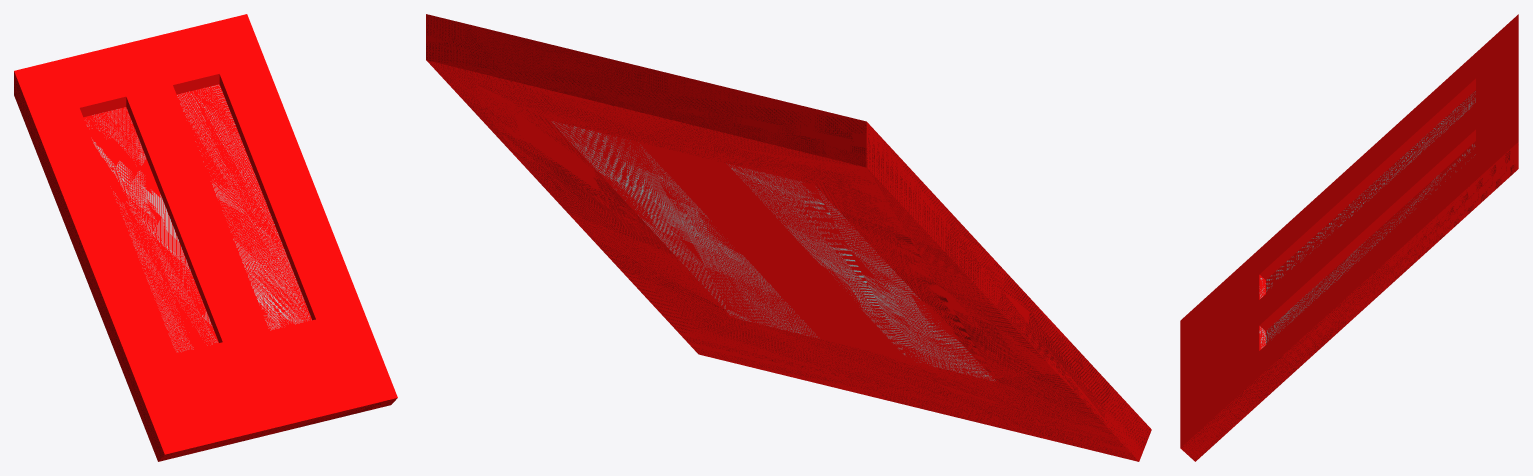
The model's file is roof_skylight_3.fbx.
The picture shows the model from 3 angles, left to right: view 1: azimuth 30°, elevation 25°; view 2: azimuth 150°, elevation 25°; view 3: azimuth 270°, elevation 25°; orthographic projection. The views are drawn at different scales.
Visible parts, largest first — view 1: Mesh1_sloped_roof1 Model; view 2: Mesh1_sloped_roof1 Model; view 3: Mesh1_sloped_roof1 Model.
Boxes of the visible parts, box(x1,y1,x2,y2) form: Mesh1_sloped_roof1 Model: box(14, 14, 397, 461); Mesh1_sloped_roof1 Model: box(426, 14, 1151, 461); Mesh1_sloped_roof1 Model: box(1180, 14, 1518, 461).
Bounding box in the file's own units: 1 × 1.17 × 1.12.
